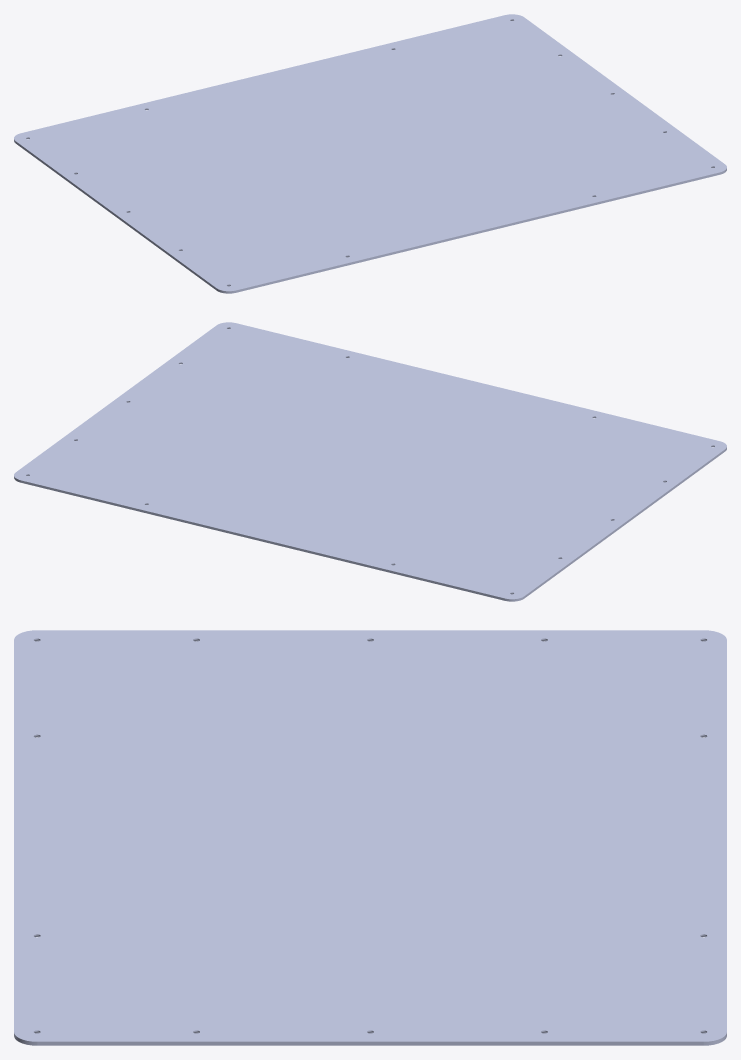
File: back_plate.dae
3 views of the same model, one above another, from view 1: azimuth 30°, elevation 25°; view 2: azimuth 150°, elevation 25°; view 3: azimuth 270°, elevation 25° (orthographic). The views are drawn at different scales.
Parts seen in each view (by area): view 1: back_plate; view 2: back_plate; view 3: back_plate.
Part boxes in pixels (x1,y1,x2,y2): back_plate: (14,14,726,293); back_plate: (14,322,726,601); back_plate: (14,630,726,1045).
Bounding box in the file's own units: 3.36 × 0.015 × 2.46.
